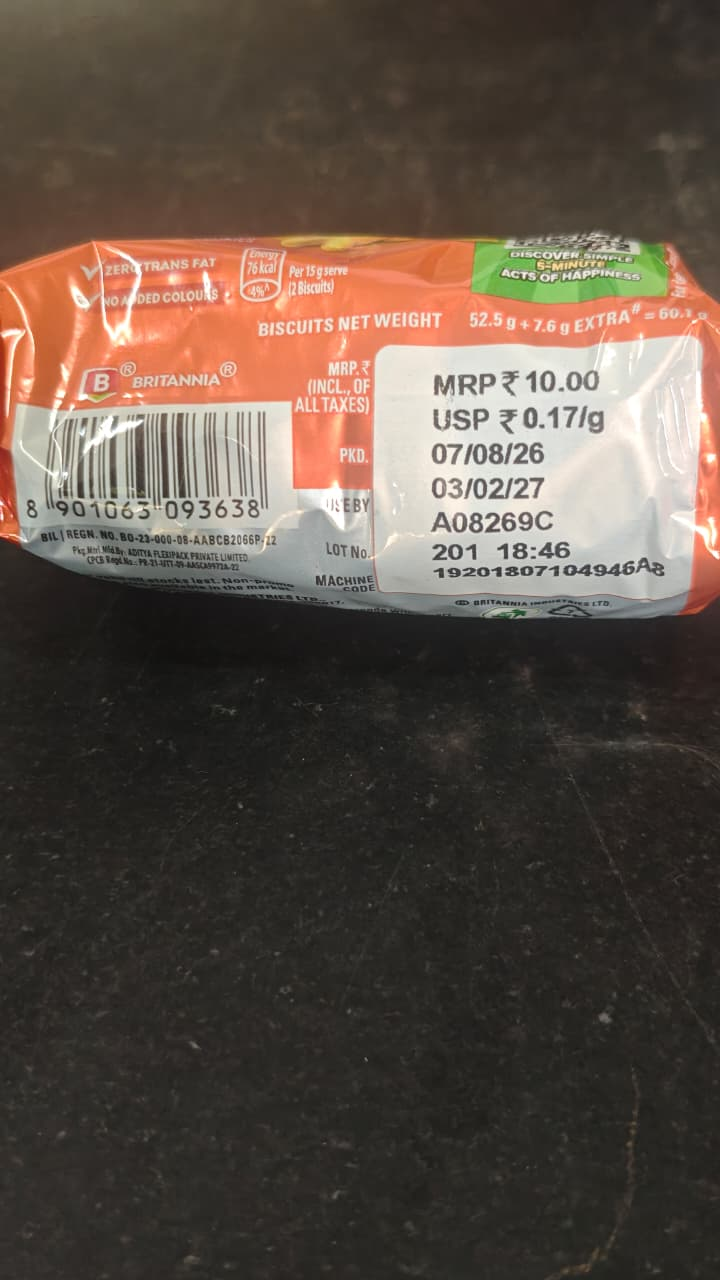Brand: (66, 354, 258, 402)
EXP_Date: (426, 470, 559, 504)
MFG_Date: (418, 436, 557, 468)
MRP: (416, 366, 612, 398)
